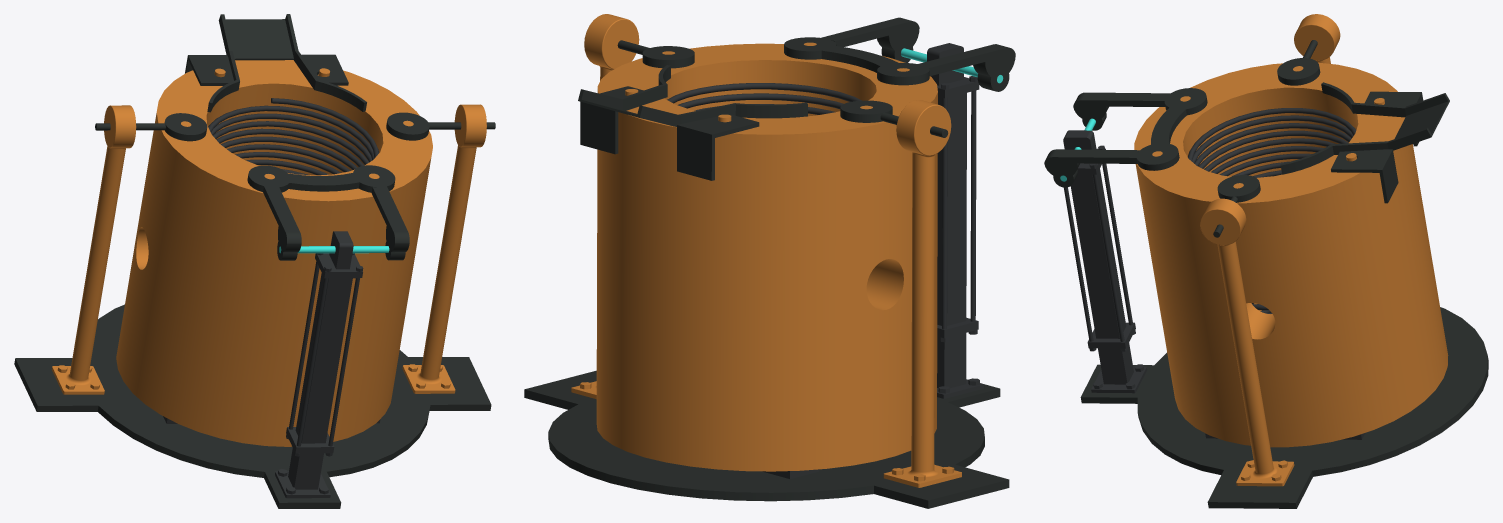
File: furnace.glb
3 renders of one model, left to right at view 1: azimuth 30°, elevation 25°; view 2: azimuth 150°, elevation 25°; view 3: azimuth 270°, elevation 25°, orthographic. The views are drawn at different scales.
Visible parts, largest first — view 1: Induction Furnace; view 2: Induction Furnace; view 3: Induction Furnace.
Boxes of the visible parts, left/top/right/bottom form: Induction Furnace: left=14, top=14, right=495, bottom=508; Induction Furnace: left=524, top=14, right=1015, bottom=508; Induction Furnace: left=1044, top=14, right=1488, bottom=508.
Bounding box in the file's own units: 134 × 107 × 125.
